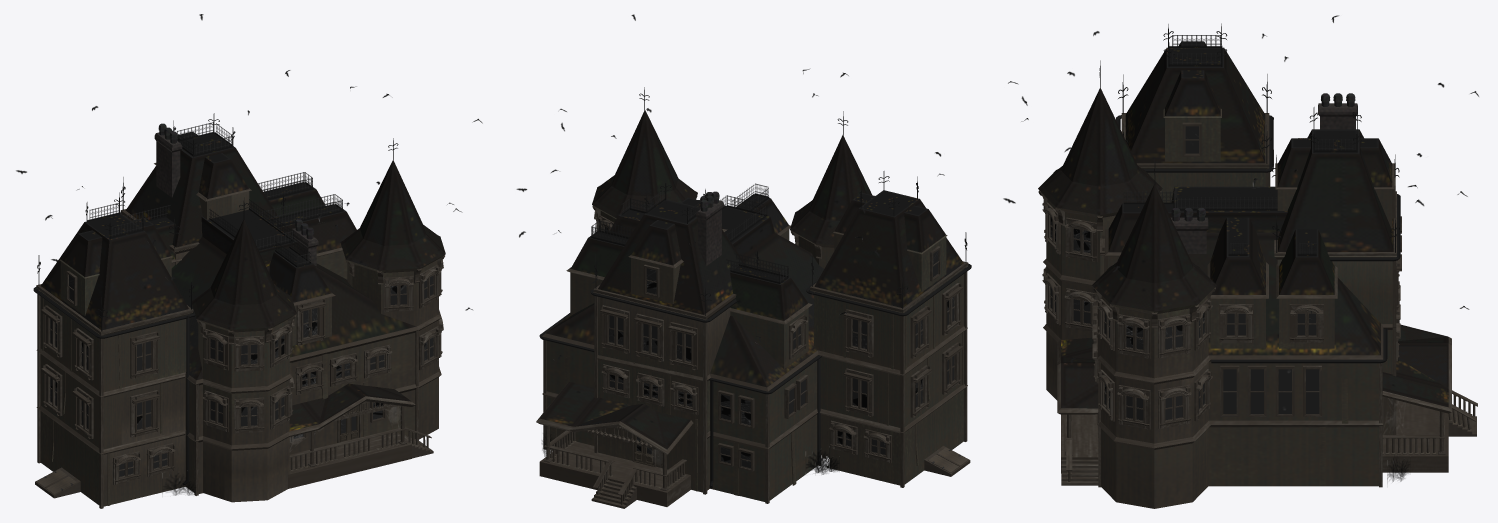
File: haunted_mansion.glb
3 views of the same model, side by side, from view 1: azimuth 30°, elevation 25°; view 2: azimuth 150°, elevation 25°; view 3: azimuth 270°, elevation 25° (orthographic). The views are drawn at different scales.
Visible parts, largest first — view 1: Object_11, Object_15, Object_12, Object_4, Object_7, Object_14, Object_5, Object_13, Object_6, Object_10, Object_16, Object_3 (+1 smaller); view 2: Object_11, Object_15, Object_12, Object_13, Object_14, Object_8, Object_7, Object_6, Object_3, Object_16, Object_9; view 3: Object_11, Object_15, Object_12, Object_13, Object_9, Object_10, Object_5, Object_8, Object_6, Object_7, Object_3, Object_4 (+1 smaller).
Part boxes in pixels (x1,y1,x2,y2): Object_11: [21, 14, 478, 502]; Object_15: [35, 106, 472, 508]; Object_12: [36, 132, 441, 469]; Object_4: [202, 324, 323, 394]; Object_7: [41, 328, 175, 485]; Object_14: [130, 70, 385, 442]; Object_5: [202, 319, 294, 433]; Object_13: [16, 14, 482, 494]; Object_6: [41, 305, 391, 415]; Object_10: [384, 264, 440, 312]; Object_16: [43, 123, 313, 495]; Object_3: [339, 326, 440, 442]; Object_11: [521, 14, 967, 495]; Object_15: [519, 108, 970, 506]; Object_12: [542, 200, 968, 508]; Object_13: [539, 15, 971, 505]; Object_14: [516, 188, 808, 466]; Object_8: [601, 342, 963, 415]; Object_7: [910, 283, 963, 417]; Object_6: [829, 306, 931, 454]; Object_3: [634, 429, 891, 466]; Object_16: [699, 191, 961, 488]; Object_9: [594, 210, 807, 359]; Object_11: [1008, 17, 1475, 508]; Object_15: [1061, 31, 1477, 487]; Object_12: [1043, 103, 1476, 485]; Object_13: [1003, 15, 1479, 482]; Object_9: [1117, 304, 1323, 358]; Object_10: [1096, 296, 1212, 429]; Object_5: [1042, 217, 1097, 325]; Object_8: [1117, 281, 1400, 429]; Object_6: [1064, 288, 1098, 383]; Object_7: [1219, 304, 1253, 343]; Object_3: [1096, 369, 1212, 421]; Object_4: [1042, 200, 1097, 321].
Bounding box in the file's own units: 28.66 × 22.44 × 26.8.
1 material, 1 textured.
